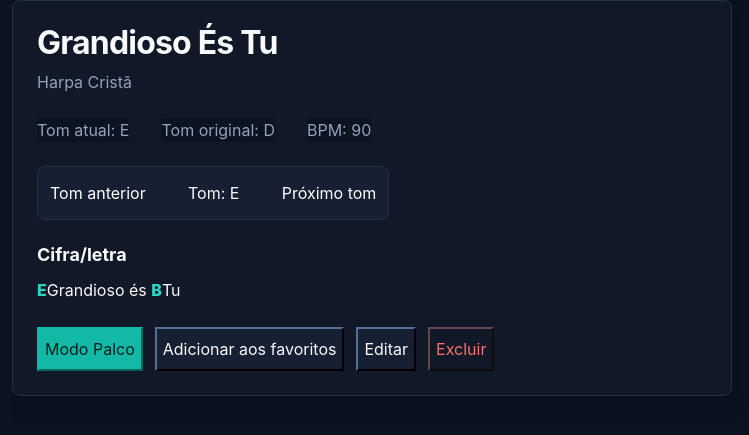
Scenario: SongDetailPage › keeps the favorite state and shows an error when persistence fails
Click the button "Adicionar aos favoritos".
click(250, 349)  # box [155, 327, 344, 371]
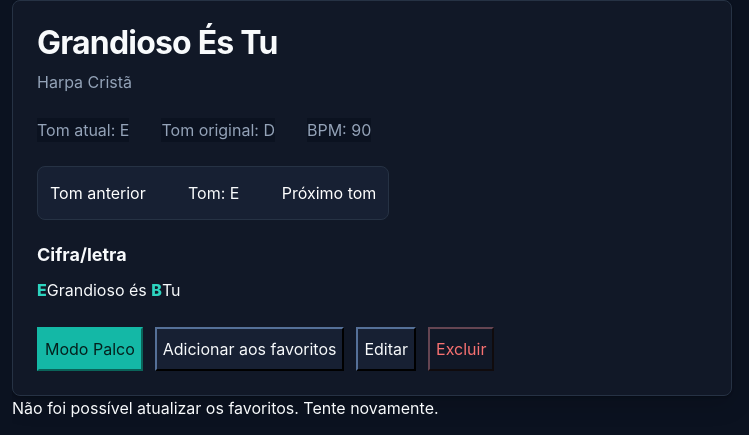
Check: the message reads "Não foi possível atualizar os favoritos. Tente novamente.", box [12, 398, 439, 418]
